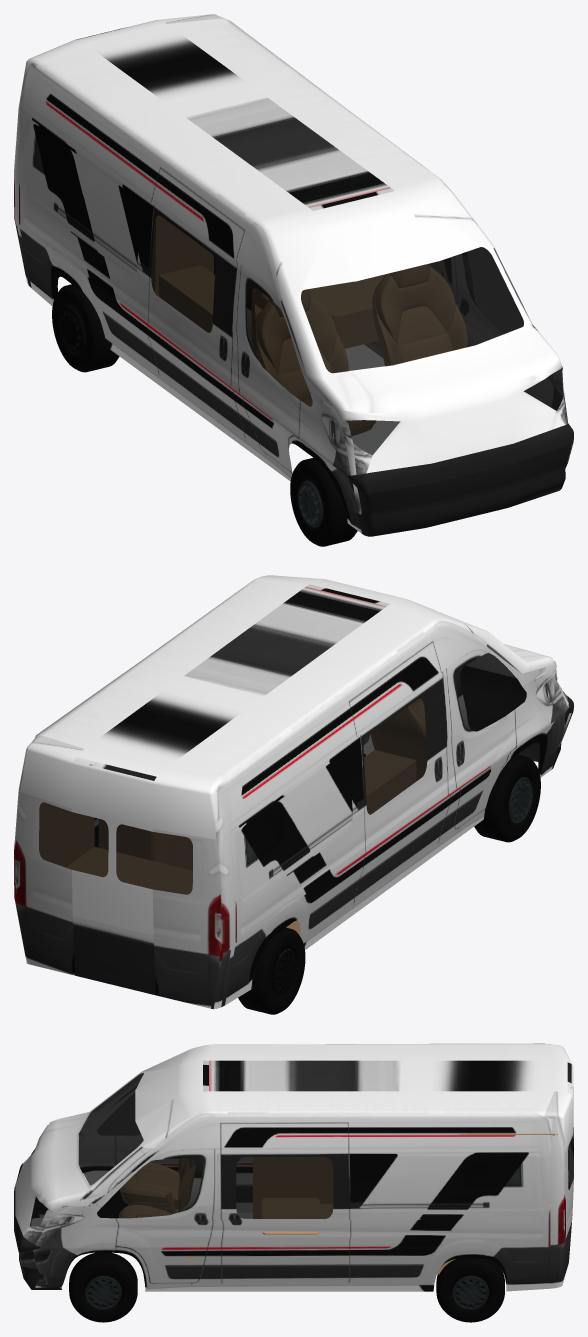
Rendered from CampingCar.glb.
3 renders of one model, top to bottom at view 1: azimuth 30°, elevation 25°; view 2: azimuth 150°, elevation 25°; view 3: azimuth 270°, elevation 25°, orthographic. The views are drawn at different scales.
Parts seen in each view (by area): view 1: TOLE, Pare brise, siege chauffeur.001, C.002, Cube.002, Cube.001, C.004, C.003, Cube.007, Cube.010, C.001, Cube.006 (+1 smaller); view 2: TOLE, TOLE.001, Cube.008, C.002, Cube.002, Cube.001, C.004, Cube.009, siege chauffeur.001, Cube.007; view 3: TOLE, C.005, Pare brise, C.003, Cube.005, Cube.004, Cube.007, siege chauffeur.001, Cube.006, C.004, Cube.002.
Part boxes in pixels (box(x1,y1,x2,y2)): TOLE: box(14, 14, 573, 536); Pare brise: box(301, 247, 523, 372); siege chauffeur.001: box(251, 260, 467, 435); C.002: box(151, 215, 215, 332); Cube.002: box(290, 457, 357, 546); Cube.001: box(52, 284, 119, 372); C.004: box(251, 287, 312, 406); C.003: box(467, 247, 523, 334); Cube.007: box(159, 265, 261, 332); Cube.010: box(151, 216, 214, 295); C.001: box(345, 368, 563, 455); Cube.006: box(309, 275, 384, 317); TOLE: box(14, 575, 573, 1009); TOLE.001: box(39, 802, 192, 894); Cube.008: box(39, 802, 192, 894); C.002: box(363, 698, 427, 814); Cube.002: box(474, 754, 540, 842); Cube.001: box(238, 927, 305, 1014); C.004: box(460, 653, 526, 731); Cube.009: box(99, 819, 192, 870); siege chauffeur.001: box(364, 699, 426, 780); Cube.007: box(364, 750, 416, 814); TOLE: box(14, 1043, 573, 1291); C.005: box(236, 1157, 333, 1218); Pare brise: box(79, 1073, 143, 1185); C.003: box(97, 1158, 195, 1218); Cube.005: box(69, 1252, 137, 1322); Cube.004: box(436, 1258, 504, 1322); Cube.007: box(253, 1157, 332, 1218); siege chauffeur.001: box(119, 1158, 195, 1259); Cube.006: box(262, 1198, 319, 1234); C.004: box(97, 1093, 140, 1134); Cube.002: box(97, 1190, 127, 1217).
Size of the model in its own units: 2.33 by 2.68 by 6.52.
5 materials, 2 textured.
